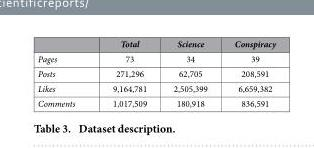table: (36, 37, 275, 109)
table column: (93, 37, 159, 109), (159, 37, 220, 109), (36, 37, 93, 109), (220, 37, 275, 109)
table column header: (36, 37, 275, 50)
table row: (36, 50, 275, 65), (36, 65, 275, 80), (36, 80, 275, 95), (36, 95, 275, 109), (36, 37, 275, 50)
